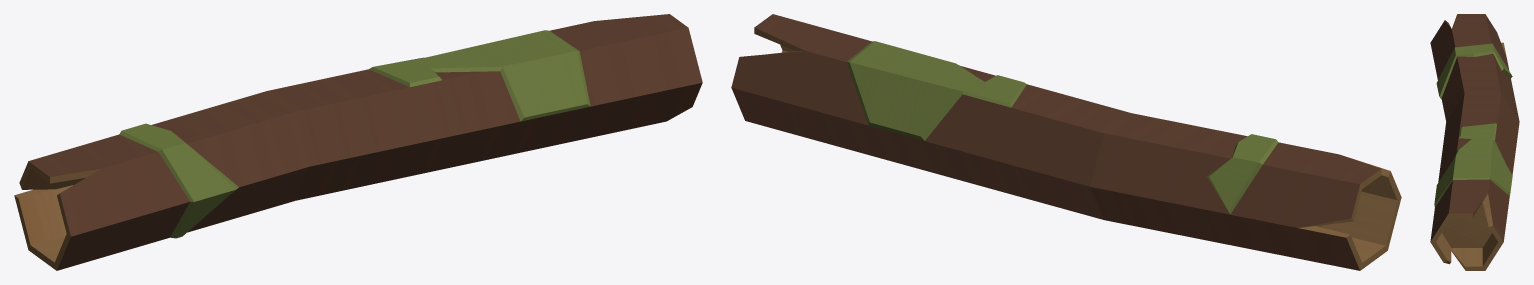
Rendered from Tree_Log_2.fbx.
3 renders of one model, left to right at view 1: azimuth 30°, elevation 25°; view 2: azimuth 150°, elevation 25°; view 3: azimuth 270°, elevation 25°, orthographic. The views are drawn at different scales.
Parts seen in each view (by area): view 1: pCylinder177; view 2: pCylinder177; view 3: pCylinder177.
Part boxes in pixels (<box>): pCylinder177: <box>14,14,702,270</box>; pCylinder177: <box>731,14,1401,270</box>; pCylinder177: <box>1430,14,1519,270</box>.
Size of the model in its own units: 450 by 63.32 by 85.08.
